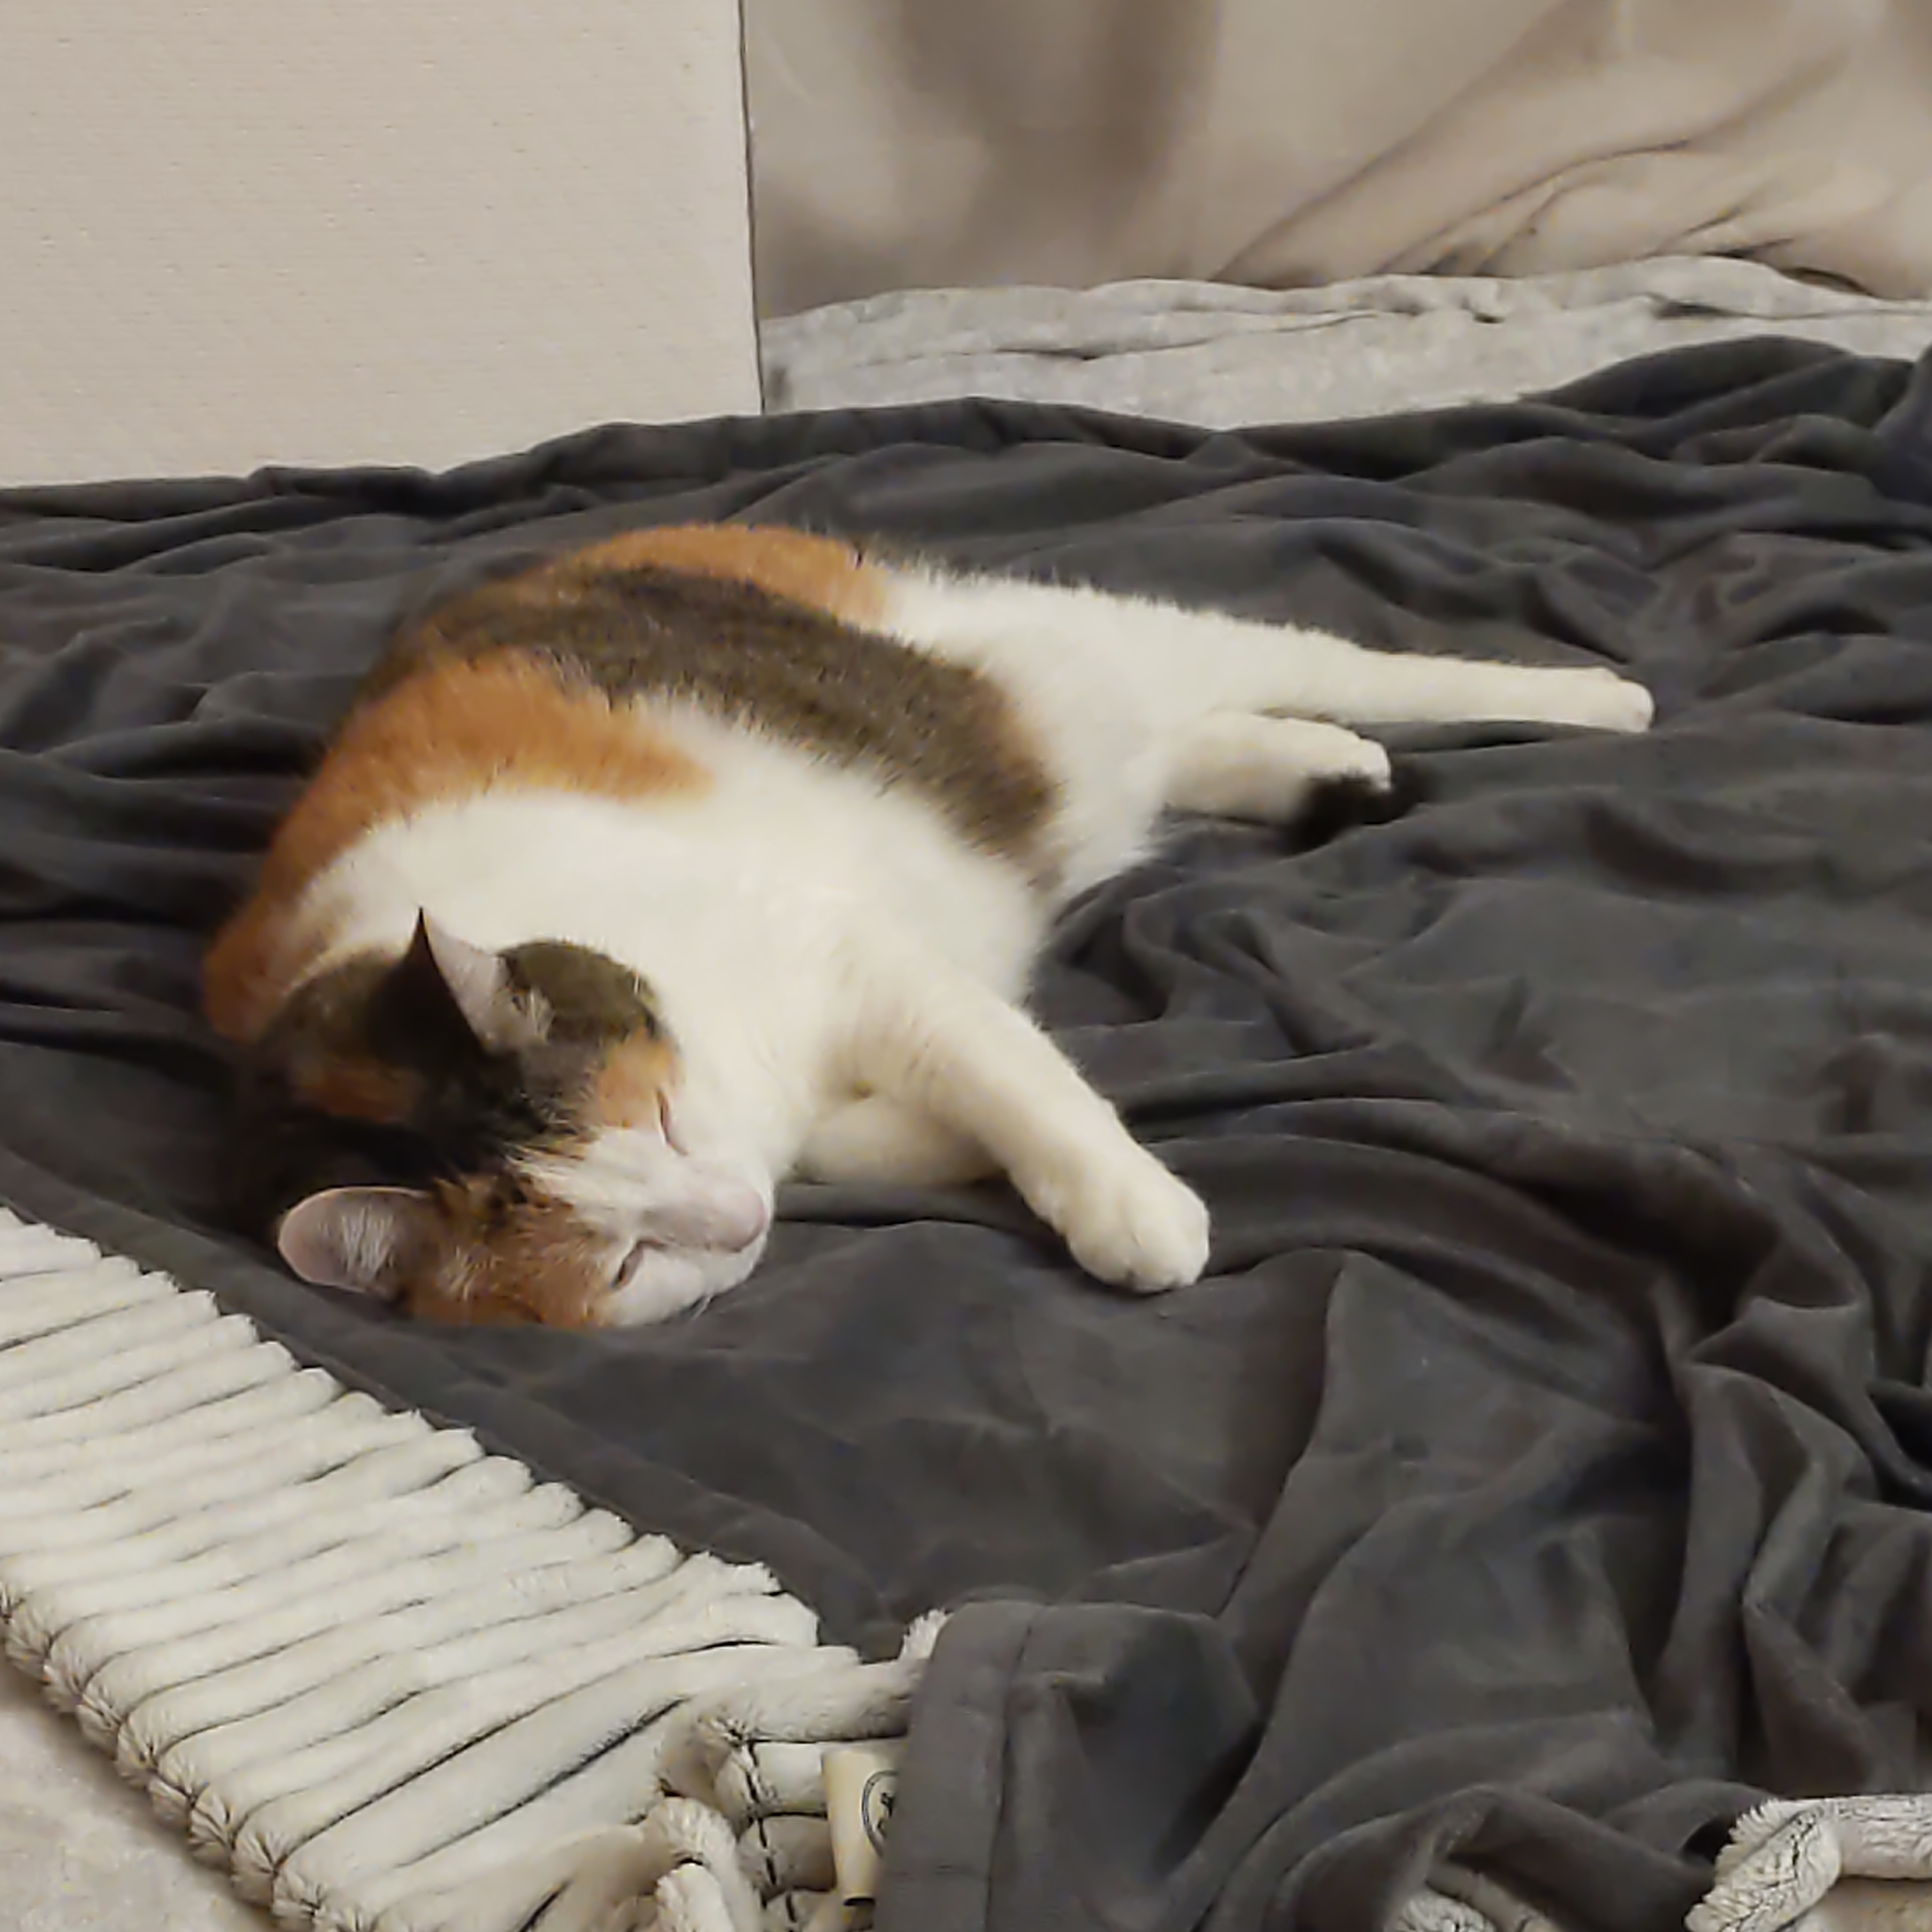Calico: (196, 517, 1658, 1332)
